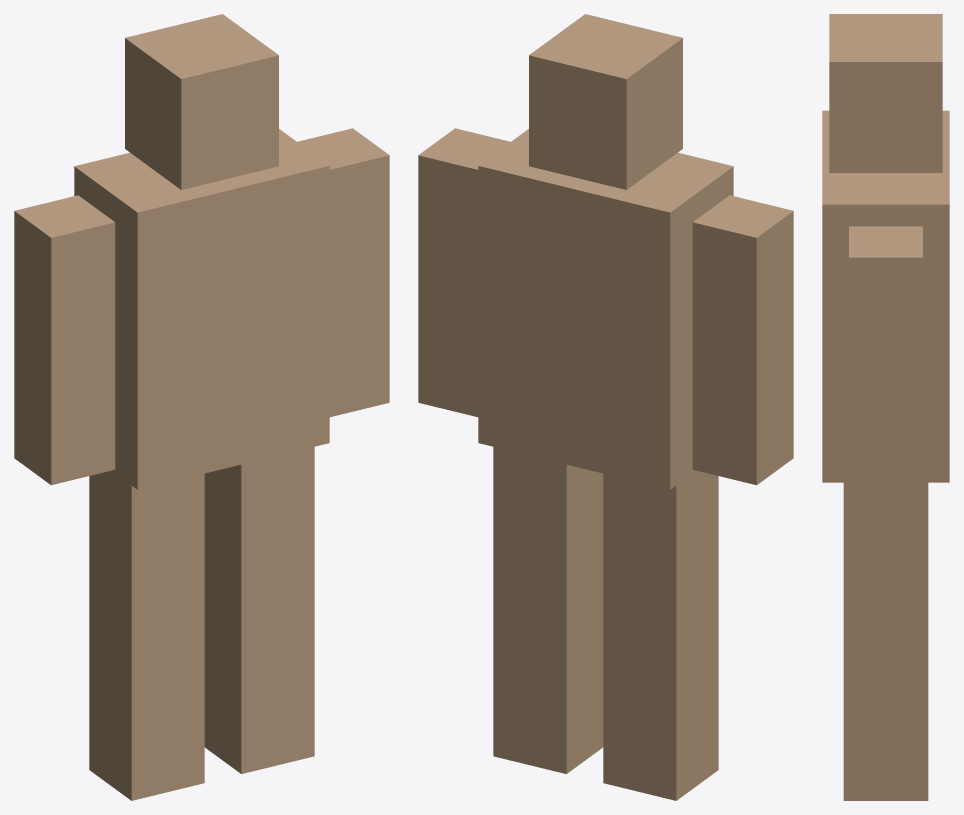
File: innkeeper.glb
The picture shows the model from 3 angles, left to right: view 1: azimuth 30°, elevation 25°; view 2: azimuth 150°, elevation 25°; view 3: azimuth 270°, elevation 25°; orthographic projection.
Visible parts, largest first — view 1: innkeeper; view 2: innkeeper; view 3: innkeeper.
Part boxes in pixels (<box>): innkeeper: <box>14,14,389,800</box>; innkeeper: <box>418,14,793,800</box>; innkeeper: <box>822,14,949,800</box>.
Size of the model in its own units: 0.814 by 1.65 by 0.264.
